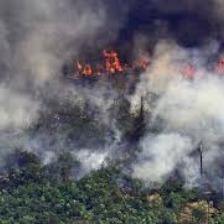incendio: (55, 47, 153, 92)
